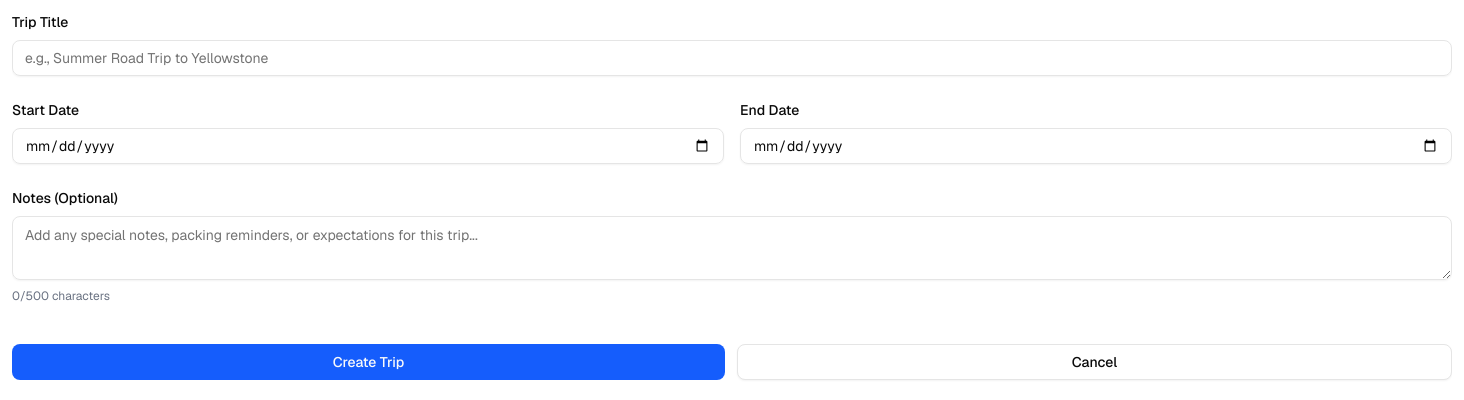
Test case: TripForm Component › Form Cancellation › should reset form when cancelled
The image size is (1464, 400).
In the field labelled "Trip Title": (732, 58) [12,40,1452,76], type "Test Trip"
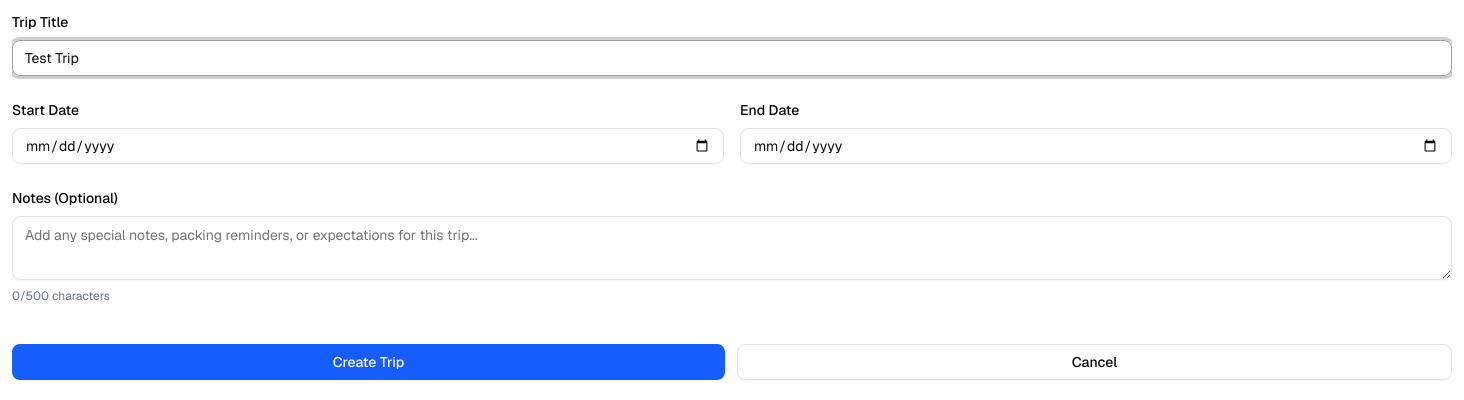
Click the button "Cancel": (1094, 362) [737,344,1452,380]
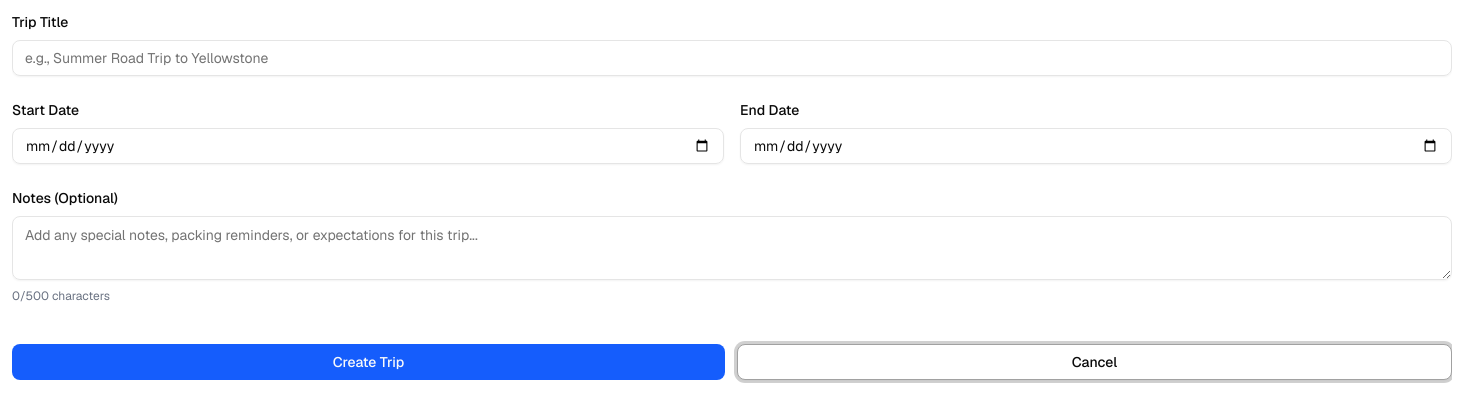
Now the field labelled "Trip Title" is empty, box [12,40,1452,76]
